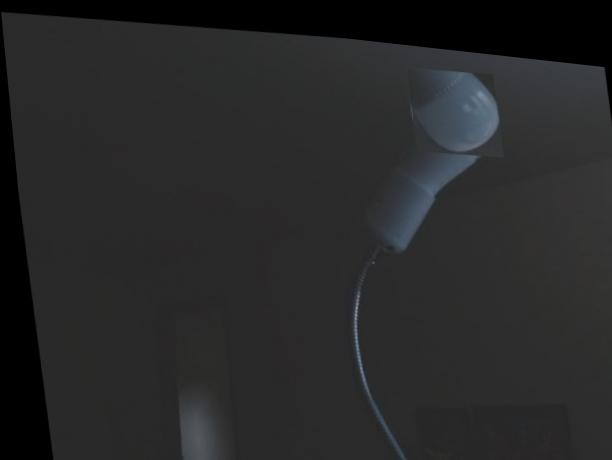Fan: (403, 53, 500, 148)
